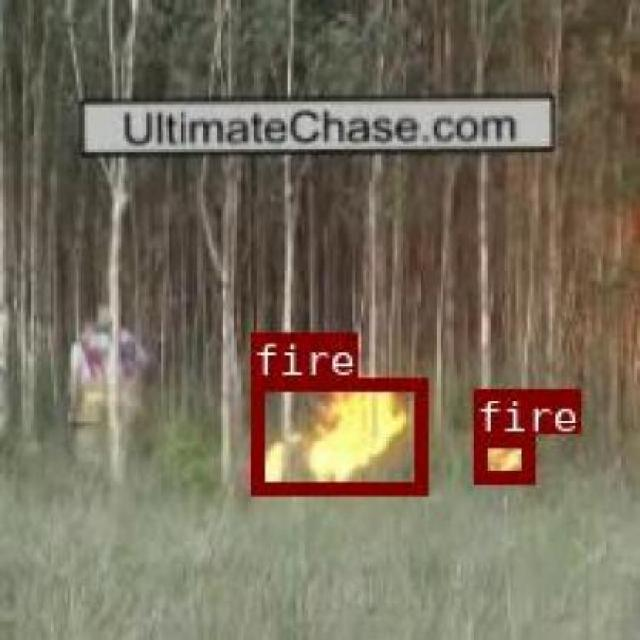Fire: (250, 376, 424, 492), (472, 432, 531, 479)
